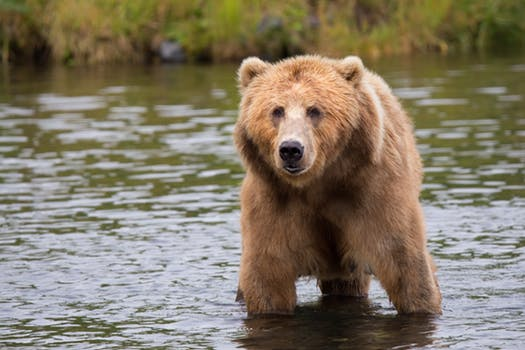bear: (234, 54, 366, 184)
